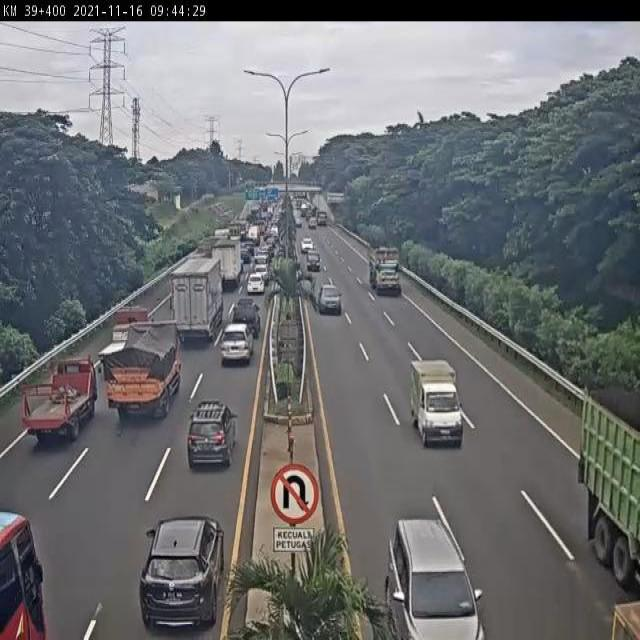car: (384, 517, 483, 640), (137, 518, 222, 626), (184, 407, 235, 477), (220, 324, 252, 365), (232, 296, 260, 336), (320, 284, 341, 316), (246, 274, 265, 294)
small truck: (20, 360, 95, 443), (410, 362, 463, 446), (97, 306, 152, 366)
truck-l-: (579, 389, 640, 599), (172, 254, 223, 338), (368, 247, 401, 294)
truck-m-: (106, 321, 178, 423), (214, 241, 243, 287)
